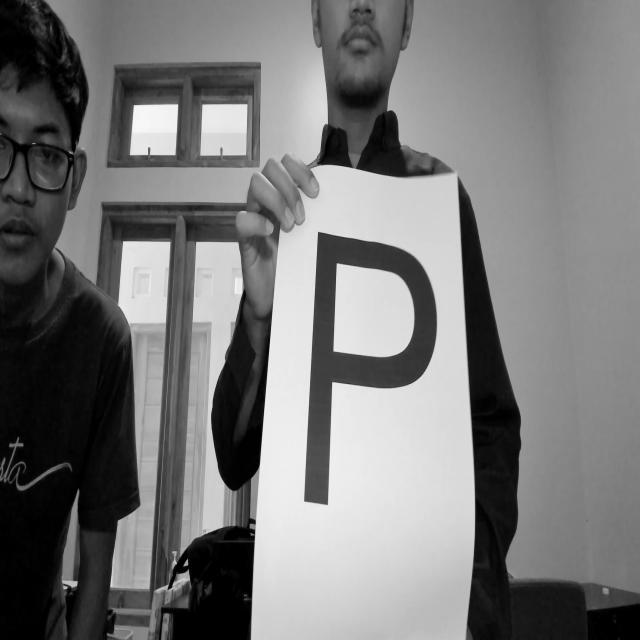p: (300, 211, 447, 520)
